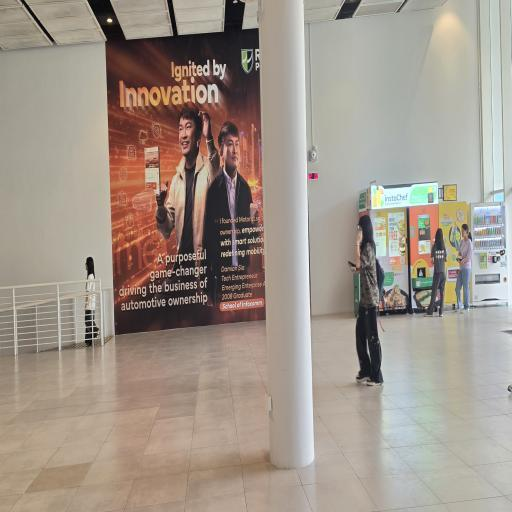person_left: (340, 214, 398, 398), (78, 251, 106, 349)
